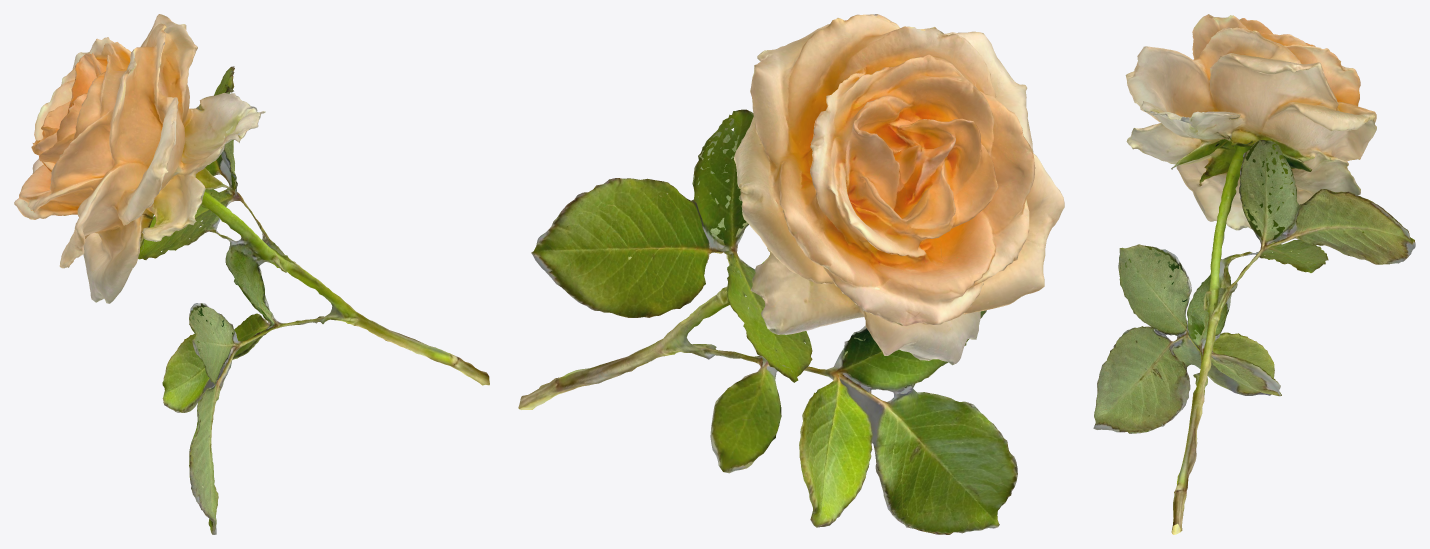
The model's file is rose.glb.
3 views of the same model, side by side, from view 1: azimuth 30°, elevation 25°; view 2: azimuth 150°, elevation 25°; view 3: azimuth 270°, elevation 25° (orthographic). The views are drawn at different scales.
Parts seen in each view (by area): view 1: Object_2; view 2: Object_2; view 3: Object_2.
Boxes of the visible parts, x1,y1,x2,y2 form: Object_2: [14, 14, 489, 534]; Object_2: [518, 14, 1064, 534]; Object_2: [1093, 14, 1415, 534].
Bounding box in the file's own units: 0.0964 × 0.0974 × 0.0685.
1 material, 1 textured.
